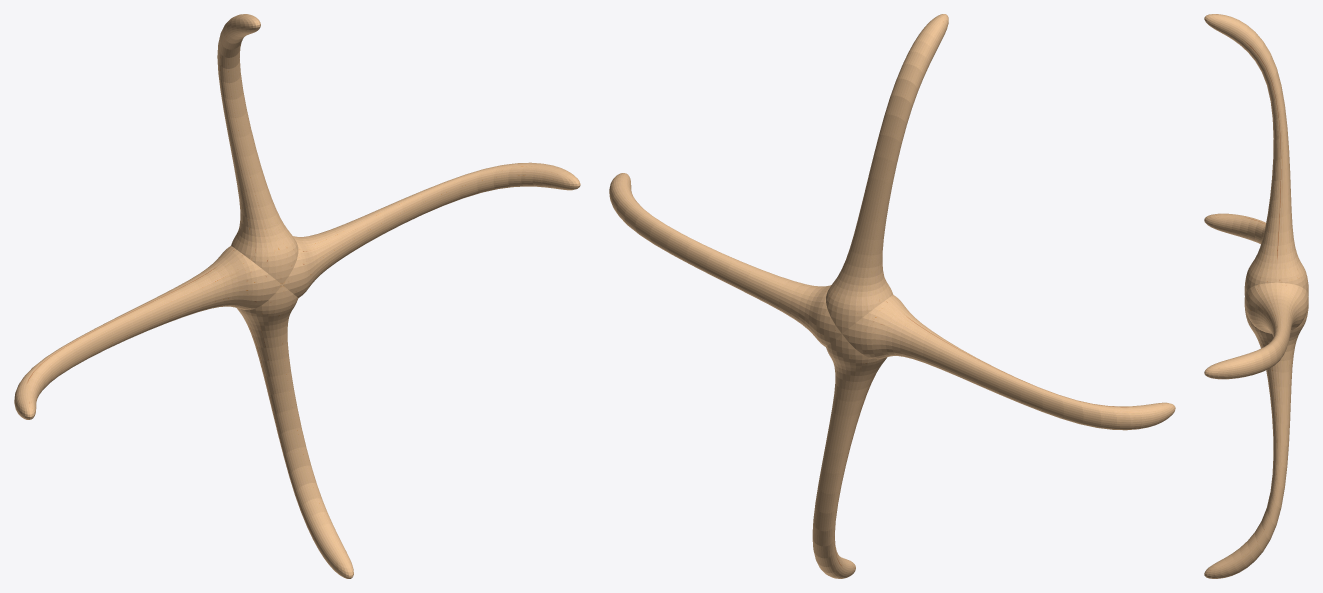
The model's file is some.obj.
3 views of the same model, side by side, from view 1: azimuth 30°, elevation 25°; view 2: azimuth 150°, elevation 25°; view 3: azimuth 270°, elevation 25° (orthographic). The views are drawn at different scales.
Visible parts, largest first — view 1: Cube.001, Cube, Cube.002, Cube.003; view 2: Cube.001, Cube, Cube.003, Cube.002; view 3: Cube, Cube.002, Cube.003, Cube.001.
Part boxes in pixels (left/top/right/bottom): Cube.001: left=14, top=246, right=281, bottom=419; Cube: left=217, top=14, right=298, bottom=284; Cube.002: left=237, top=285, right=353, bottom=578; Cube.003: left=282, top=162, right=580, bottom=297; Cube.001: left=842, top=294, right=1175, bottom=430; Cube: left=826, top=14, right=948, bottom=333; Cube.003: left=609, top=173, right=841, bottom=346; Cube.002: left=812, top=334, right=887, bottom=578; Cube: left=1204, top=14, right=1308, bottom=294; Cube.002: left=1204, top=302, right=1308, bottom=578; Cube.003: left=1204, top=282, right=1308, bottom=379; Cube.001: left=1204, top=213, right=1308, bottom=295.
Size of the model in its own units: 47.28 by 47.28 by 8.56.
1 material, 1 textured.
